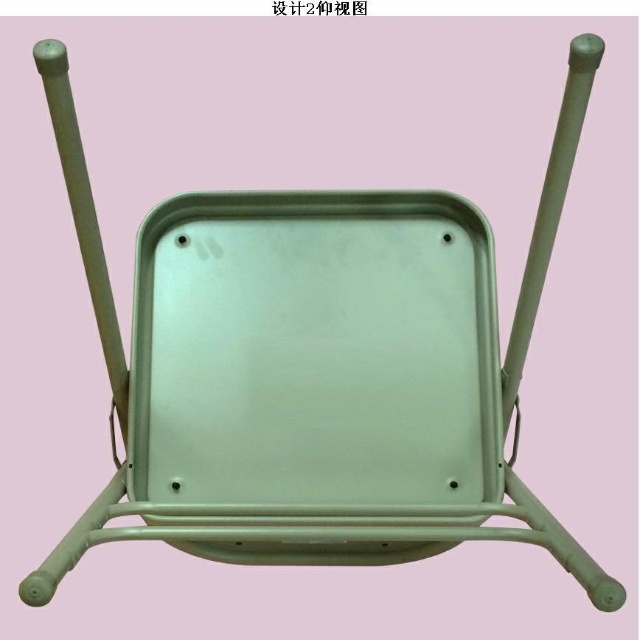obstacle: (18, 34, 625, 611)
